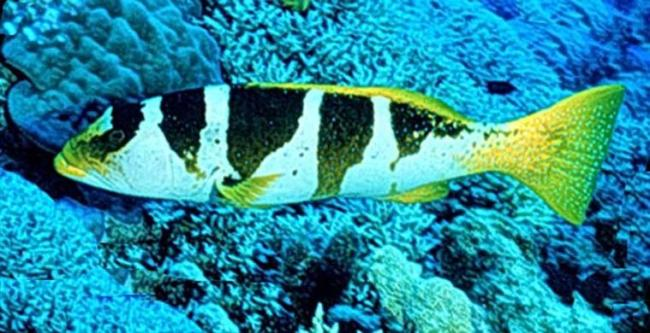fish: (53, 82, 626, 229)
